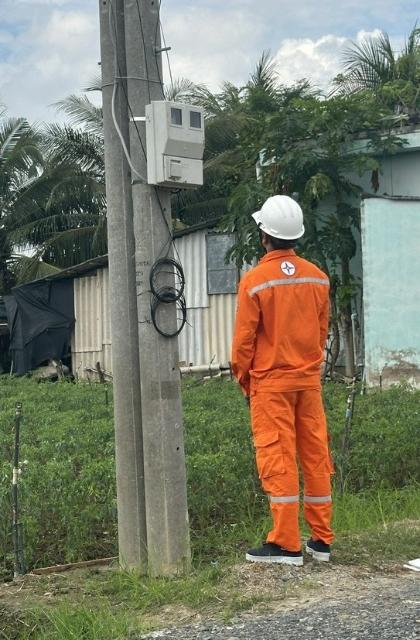helmet: (247, 193, 318, 249)
shoes: (244, 534, 308, 568), (300, 531, 334, 564)
